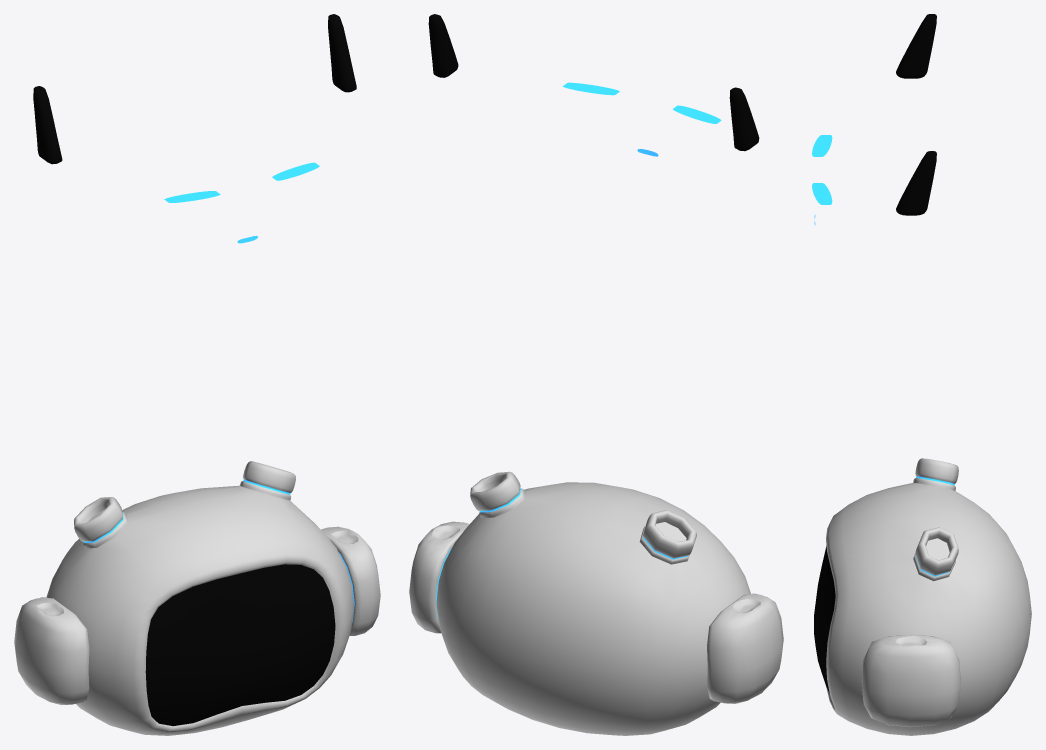
File: RobotHead.fbx
3 renders of one model, left to right at view 1: azimuth 30°, elevation 25°; view 2: azimuth 150°, elevation 25°; view 3: azimuth 270°, elevation 25°, orthographic. The views are drawn at different scales.
Visible parts, largest first — view 1: Robot, Ears, Eyes; view 2: Robot, Ears, Eyes; view 3: Robot, Ears, Eyes.
Boxes of the visible parts, <box> form: Robot: <box>14,461,380,735</box>; Ears: <box>33,14,356,164</box>; Eyes: <box>164,162,319,202</box>; Robot: <box>409,471,783,735</box>; Ears: <box>428,14,759,151</box>; Eyes: <box>563,82,721,123</box>; Robot: <box>814,458,1031,735</box>; Ears: <box>896,14,936,215</box>; Eyes: <box>812,135,832,204</box>.
Bounding box in the file's own units: 198 × 362 × 115.
